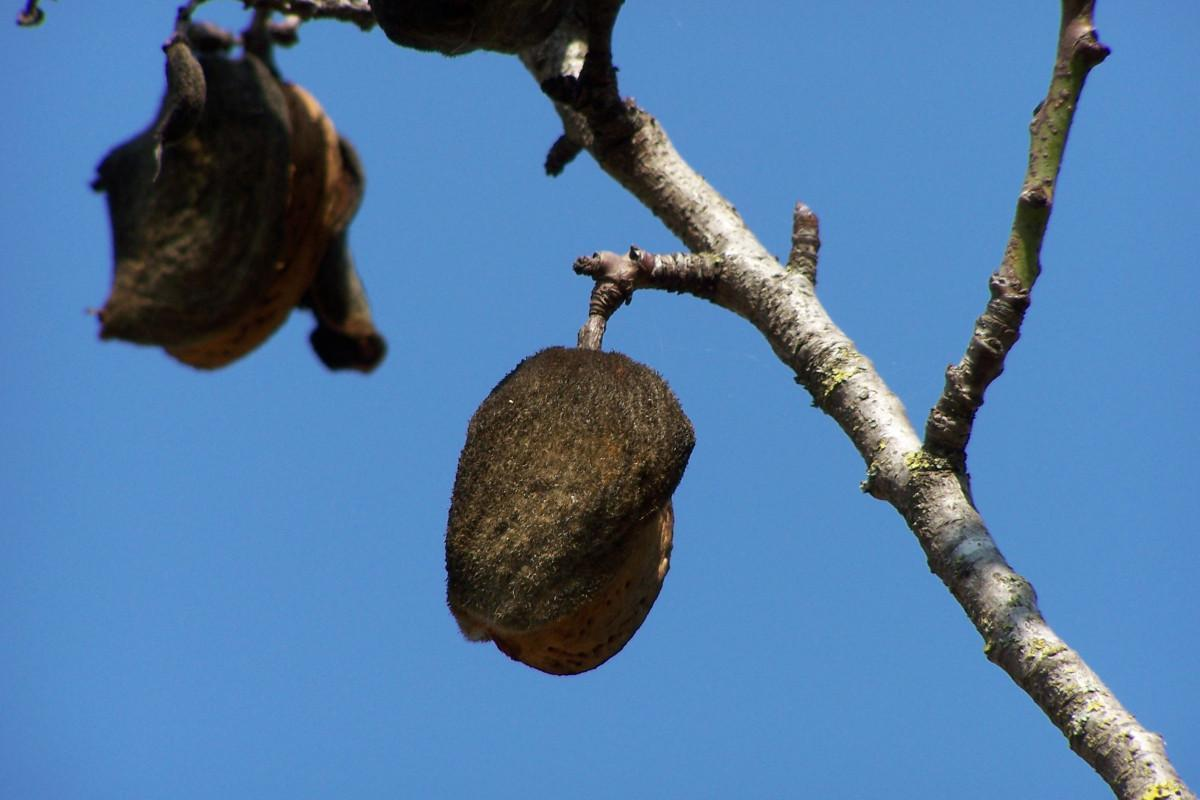mummified_fruits: (445, 348, 693, 674)
